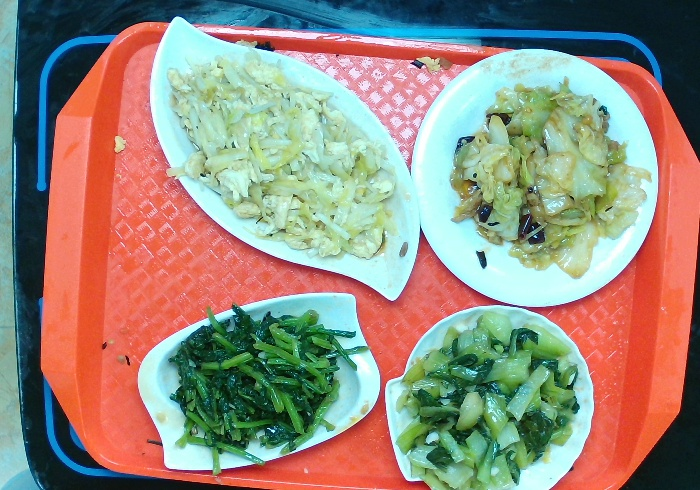RJxy-Bei_Ke_Wan: (379, 304, 599, 490)
RJxy-Jian_Jiao_Fang_Die: (142, 288, 381, 490)
RJxy-Jian_Jiao_Pan: (152, 11, 418, 302)
RJxy-Yuan_Pan: (405, 45, 661, 310)
